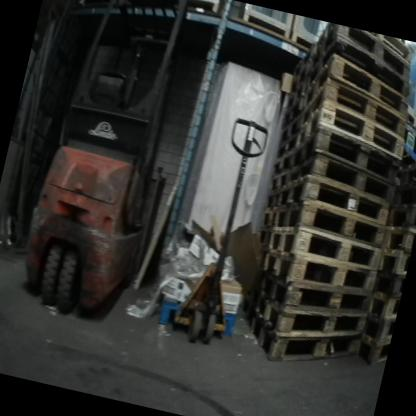forklift: (12, 0, 198, 328)
pallet: (303, 51, 416, 134), (299, 73, 416, 150), (295, 96, 411, 170), (245, 308, 363, 380), (252, 289, 367, 354), (290, 125, 405, 190), (284, 144, 400, 207), (273, 192, 389, 255), (258, 266, 373, 326), (278, 169, 394, 228), (262, 245, 378, 303), (314, 21, 416, 83), (269, 219, 383, 272), (156, 294, 239, 341), (361, 31, 416, 66), (355, 332, 391, 371), (278, 107, 304, 152), (361, 313, 395, 346), (373, 267, 406, 300), (377, 245, 411, 277), (367, 288, 401, 320), (382, 223, 416, 254), (386, 200, 416, 234), (287, 71, 311, 112), (295, 38, 319, 77), (283, 90, 307, 128), (391, 178, 416, 212), (275, 129, 298, 165), (395, 156, 416, 190), (291, 60, 313, 92), (272, 149, 293, 179), (260, 205, 278, 232), (269, 167, 287, 193), (265, 185, 283, 211), (256, 225, 274, 249)
pallet_truck: (168, 112, 274, 351)
